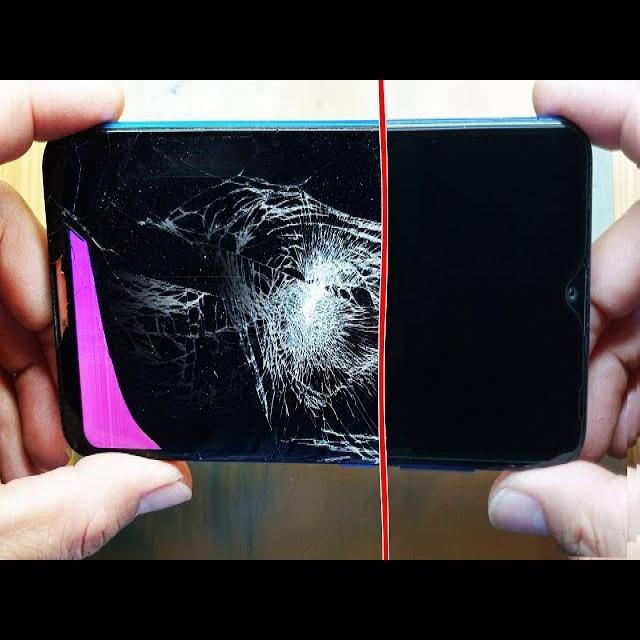mobile phone: (19, 109, 597, 485)
